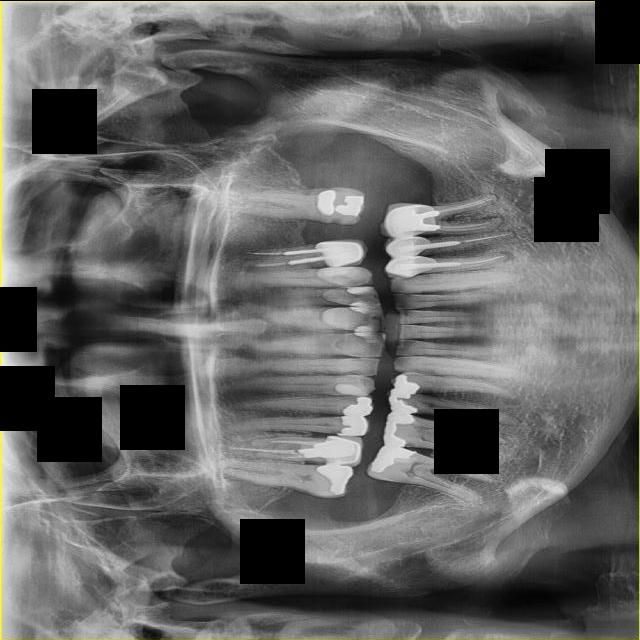71: (394, 257, 462, 271), (395, 239, 461, 252), (285, 253, 330, 266), (280, 245, 328, 256)
74: (439, 195, 493, 214), (461, 255, 504, 265), (267, 438, 319, 446), (231, 447, 299, 453), (460, 234, 508, 242), (437, 226, 484, 231), (443, 223, 489, 228), (255, 261, 284, 267), (246, 251, 282, 255), (286, 454, 304, 457)
NucleOSS Implant: (315, 451, 360, 499), (364, 434, 416, 475), (381, 409, 416, 449), (296, 438, 354, 458), (388, 370, 421, 403), (394, 209, 441, 232), (387, 389, 418, 413), (337, 413, 368, 436), (341, 396, 374, 416), (334, 194, 364, 215), (316, 187, 337, 215)
Sterngold Implant: (343, 368, 365, 375), (338, 395, 357, 403), (328, 217, 345, 224), (349, 351, 366, 357), (348, 357, 366, 361), (405, 441, 417, 447), (330, 429, 339, 433)
Straumann Implant: (321, 306, 386, 331), (323, 286, 381, 306), (317, 266, 373, 286), (333, 382, 371, 396), (354, 331, 381, 342)
Zimmer Implant: (377, 197, 439, 240), (316, 236, 369, 268), (324, 435, 362, 467), (384, 235, 430, 258)
